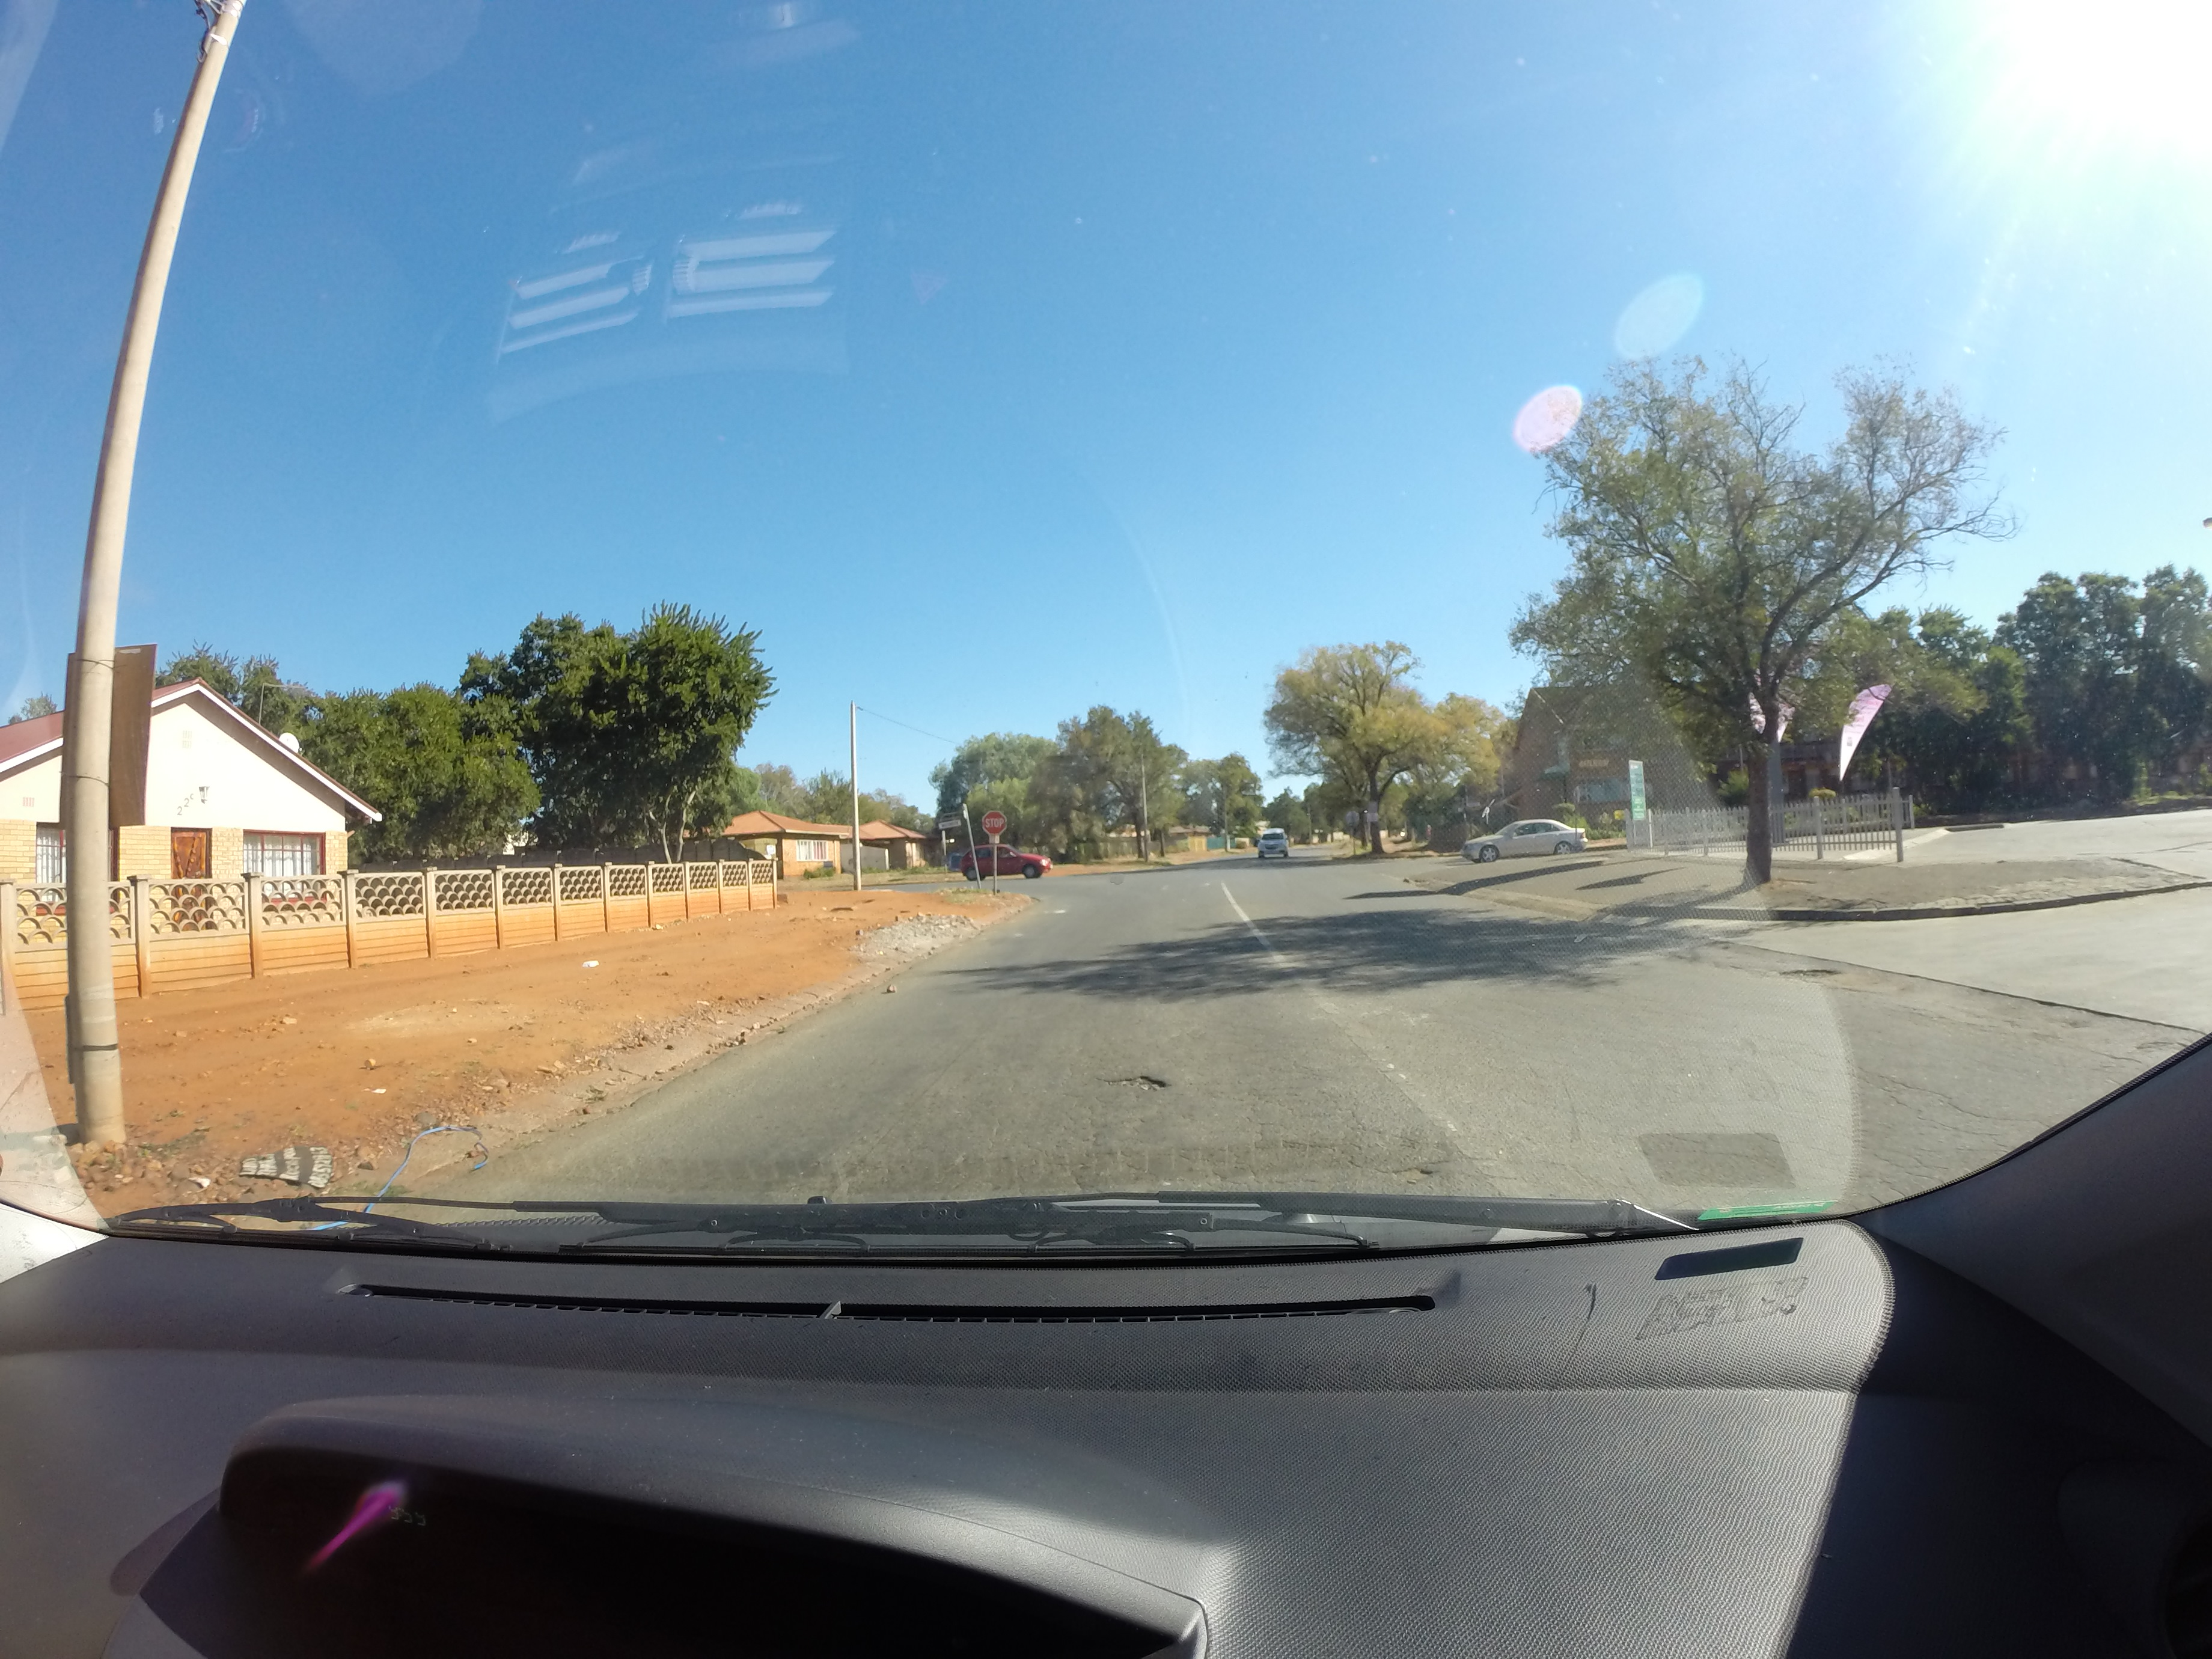pothole: (1010, 1009, 1258, 1143)
